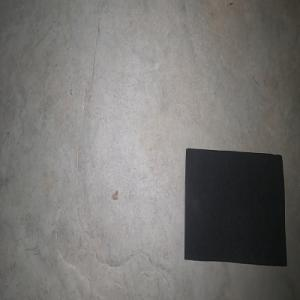PaintChip: (184, 148, 287, 266)
